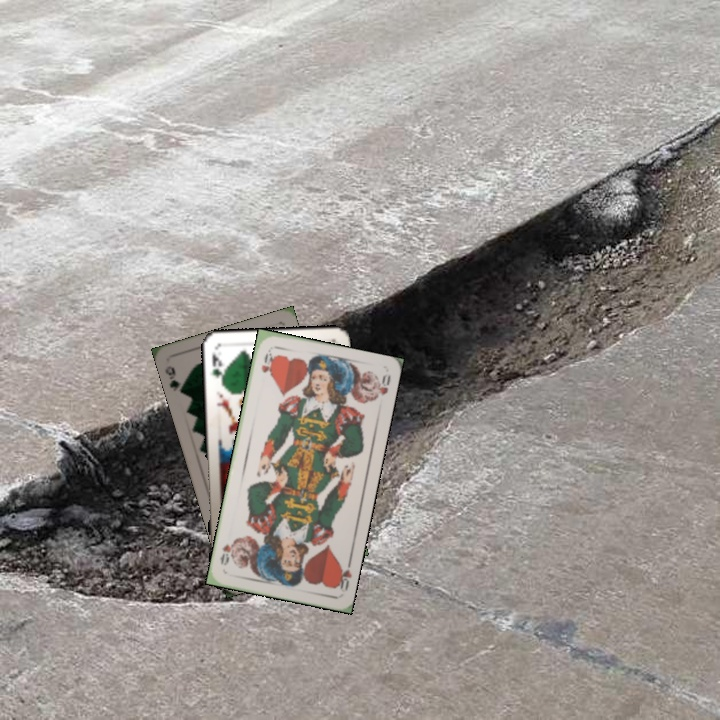G9: (161, 361, 188, 397)
GK: (207, 349, 226, 386)
HO: (331, 555, 354, 595), (257, 346, 276, 378)
